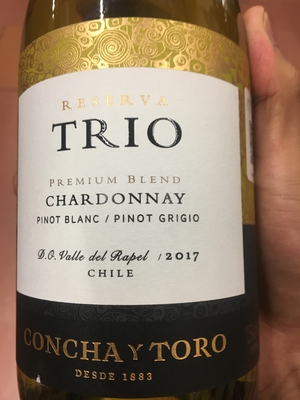trio chardonnay: (17, 11, 263, 399)
